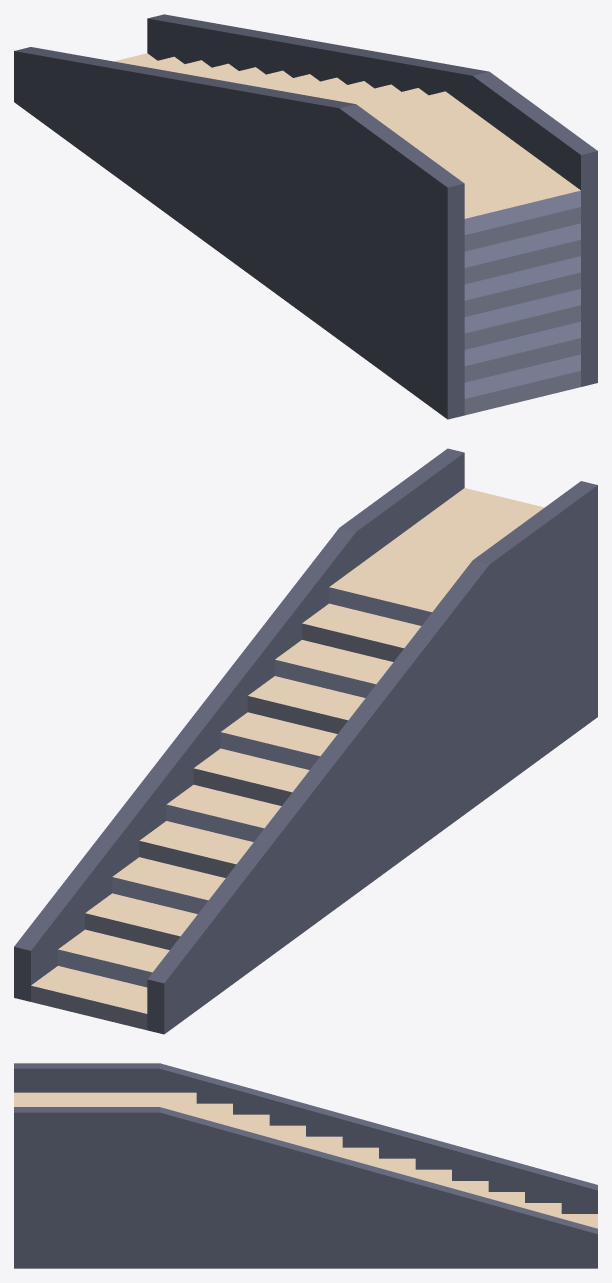
File: escalier-de-ville.glb
3 views of the same model, one above another, from view 1: azimuth 30°, elevation 25°; view 2: azimuth 150°, elevation 25°; view 3: azimuth 270°, elevation 25° (orthographic). The views are drawn at different scales.
Parts seen in each view (by area): view 1: escalier-de-ville; view 2: escalier-de-ville; view 3: escalier-de-ville.
Part boxes in pixels (x1,y1,x2,y2): escalier-de-ville: (14,14,597,419); escalier-de-ville: (14,448,597,1034); escalier-de-ville: (14,1063,597,1268).
Size of the model in its own units: 0.2 by 0.295 by 1.
1 material, 1 textured.
